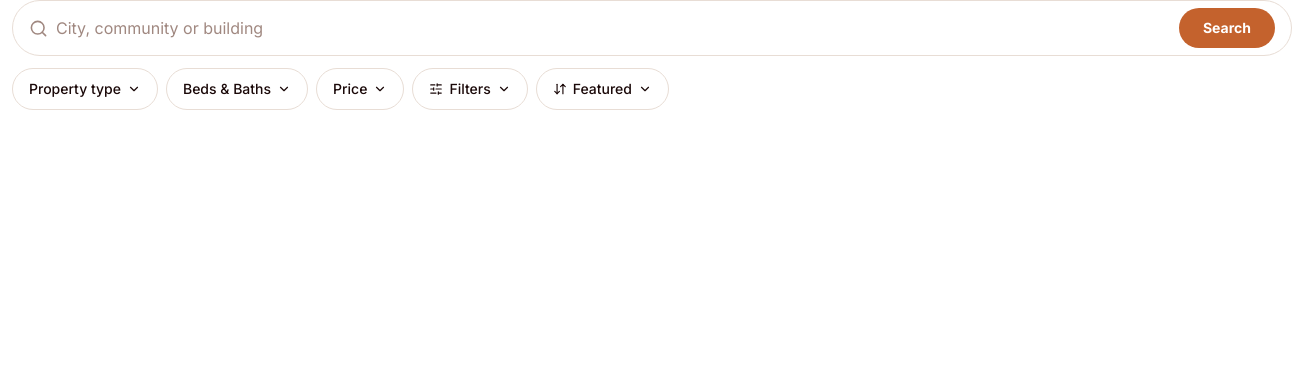
Test: filter dropdowns › collapses long option lists behind View more
Click the button "Property type" at (85,89), box top-left (12, 68), bottom-right (158, 110)
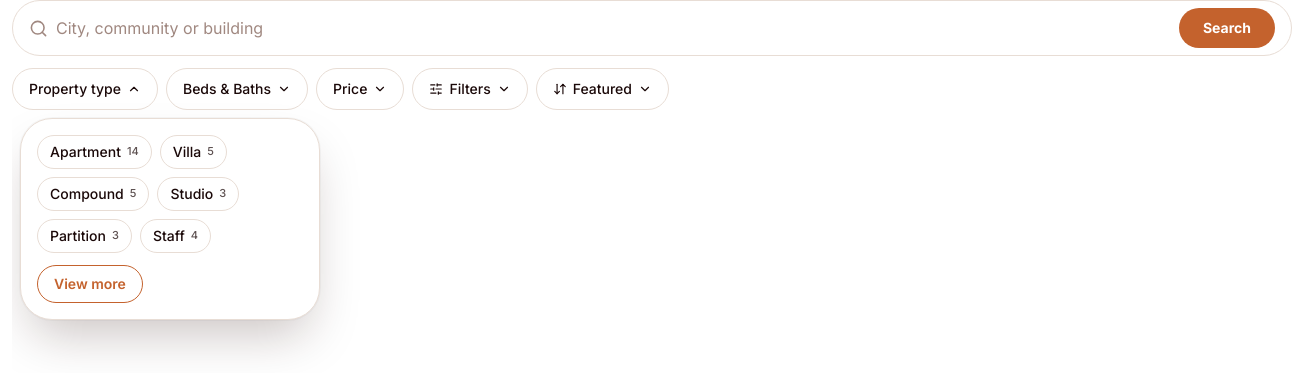
Expected: the button "Shop" is not shown
Click the button "View more" at (90,284), box top-left (37, 265), bottom-right (143, 303)
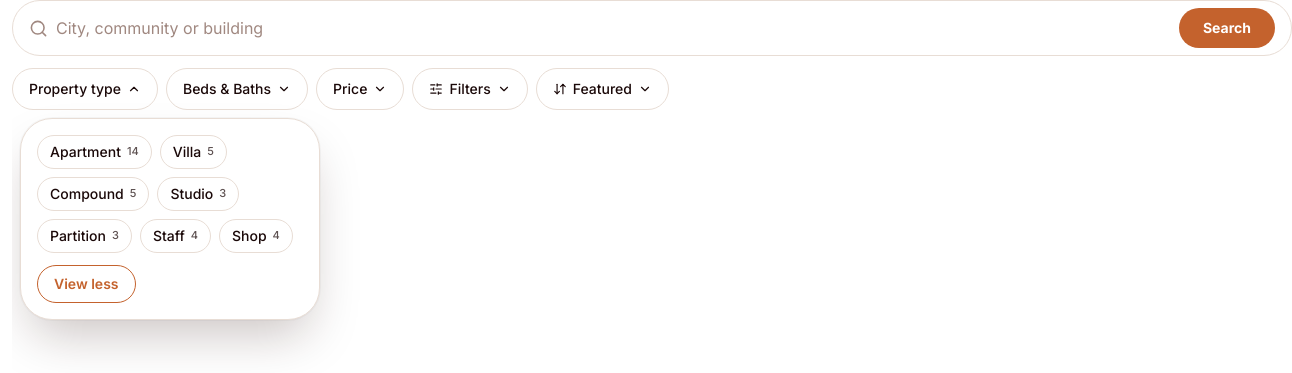
Result: the button "Shop 4" is shown at top-left (219, 219), bottom-right (293, 253)
